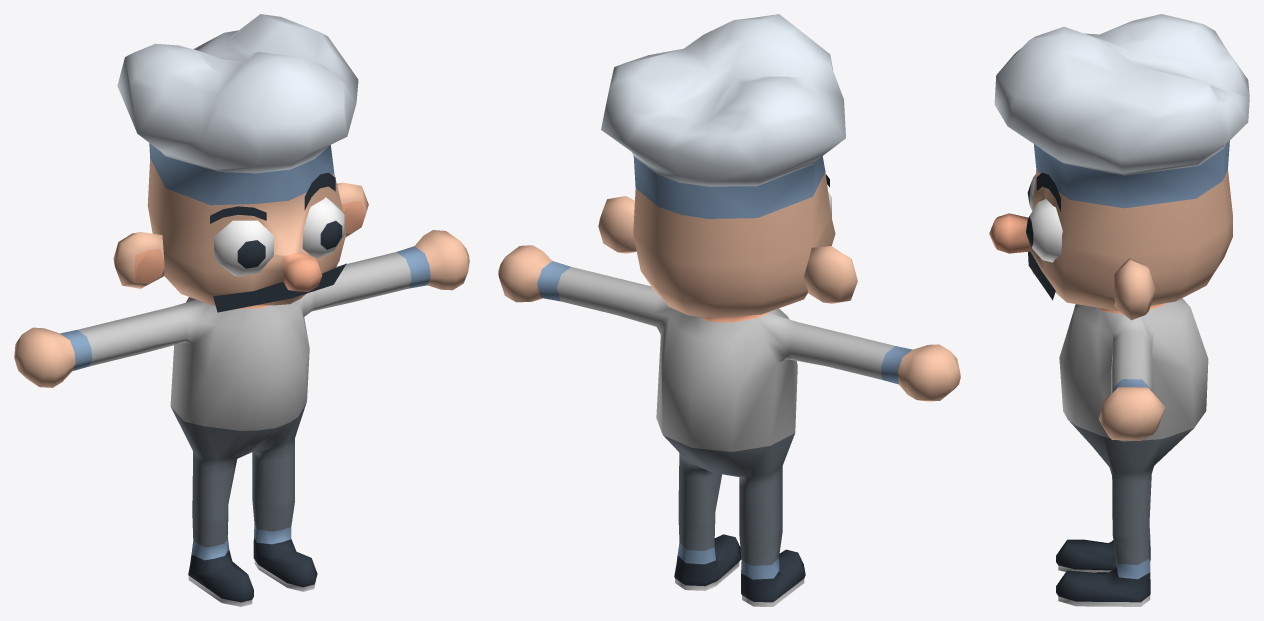
File: PovarichREMESH.fbx
3 renders of one model, left to right at view 1: azimuth 30°, elevation 25°; view 2: azimuth 150°, elevation 25°; view 3: azimuth 270°, elevation 25°, orthographic. The views are drawn at different scales.
Parts seen in each view (by area): view 1: Plane; view 2: Plane; view 3: Plane.
Part boxes in pixels (x1,y1,x2,y2): Plane: (14, 14, 469, 606); Plane: (498, 14, 960, 606); Plane: (989, 14, 1249, 606).
Size of the model in its own units: 82.93 by 95.91 by 41.26.
